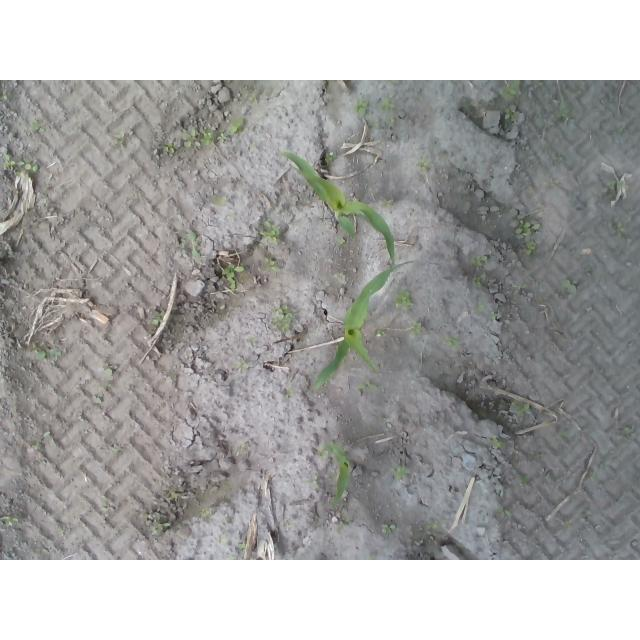Maize: (278, 148, 402, 265)
